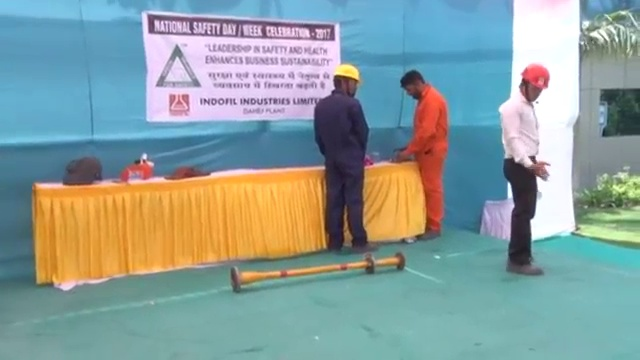helmet: (520, 62, 551, 90), (333, 63, 361, 84)
helmet_off: (400, 70, 428, 101)
helmet_on: (518, 62, 551, 104), (331, 63, 362, 99)
person: (312, 62, 382, 252), (496, 61, 551, 275), (393, 69, 449, 240)
